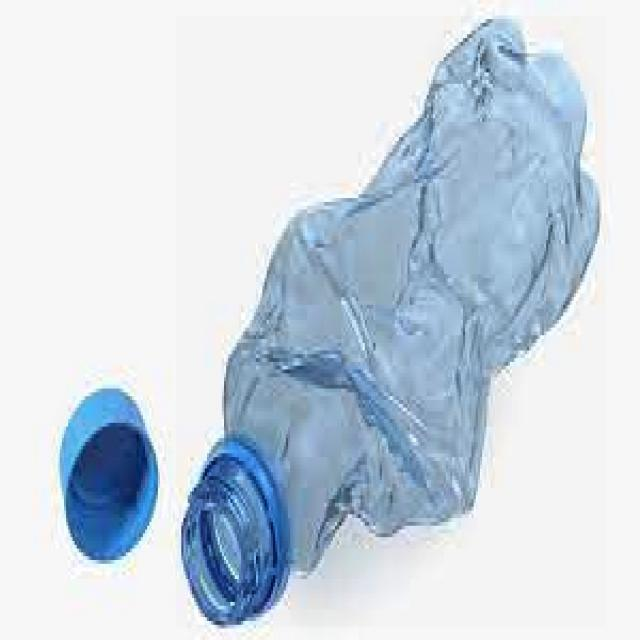BIODEGRADABLE: (176, 16, 606, 627)
